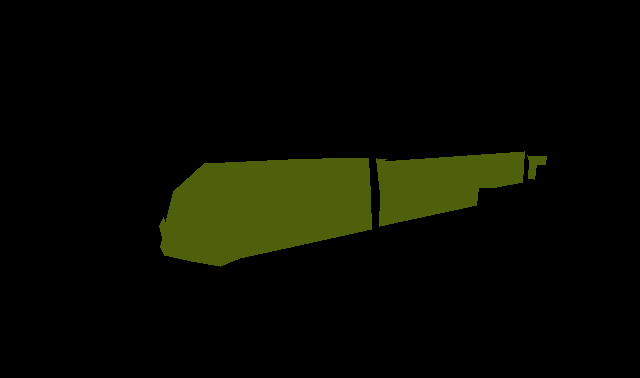Train: (159, 151, 546, 267)
